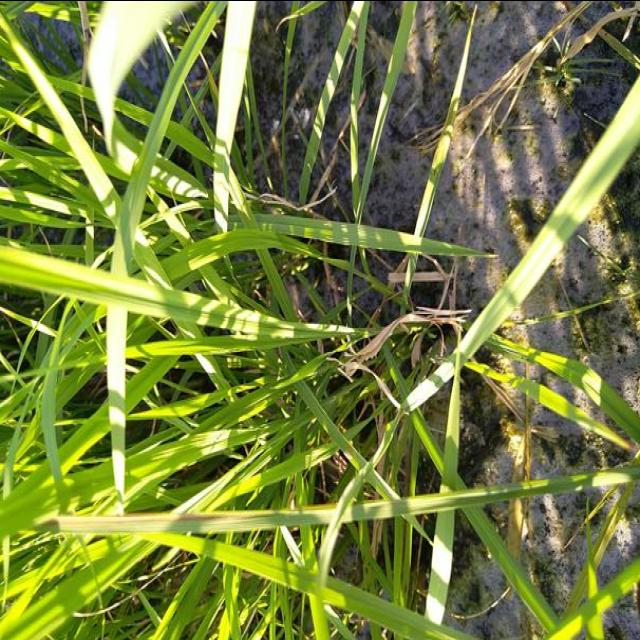Leaf Streak: (57, 507, 333, 533)
